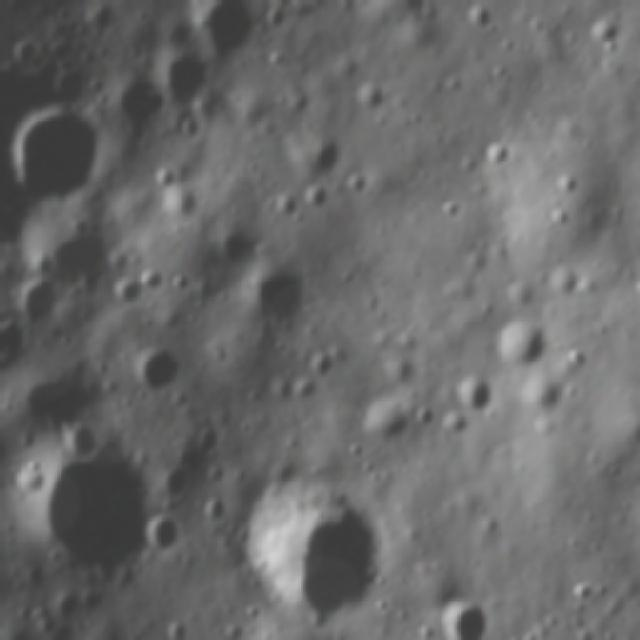crater: (27, 432, 165, 594), (240, 482, 386, 620), (7, 102, 110, 203), (19, 362, 96, 444), (239, 262, 310, 329), (186, 3, 263, 60), (111, 71, 166, 137), (131, 334, 186, 398), (155, 47, 210, 105), (490, 317, 552, 368), (355, 393, 413, 444), (15, 275, 66, 327), (204, 217, 258, 266), (441, 592, 490, 640), (294, 132, 344, 177), (57, 416, 103, 462), (142, 509, 185, 557), (448, 370, 490, 413), (152, 466, 194, 506), (158, 188, 202, 225), (265, 188, 301, 229), (586, 14, 628, 49), (283, 370, 320, 408), (15, 459, 48, 499), (193, 422, 227, 460), (108, 274, 146, 308), (351, 81, 387, 116), (481, 138, 516, 170), (306, 341, 337, 376), (461, 3, 497, 31), (300, 179, 332, 210), (199, 496, 227, 530), (411, 401, 438, 433), (157, 614, 192, 638), (568, 573, 595, 604), (153, 166, 178, 191)
